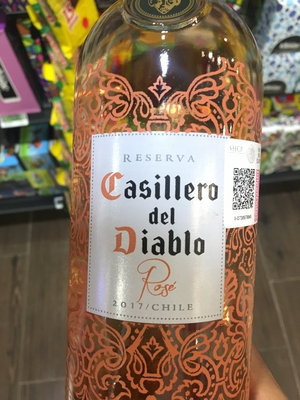casillero del diablo rose: (49, 12, 265, 400)
